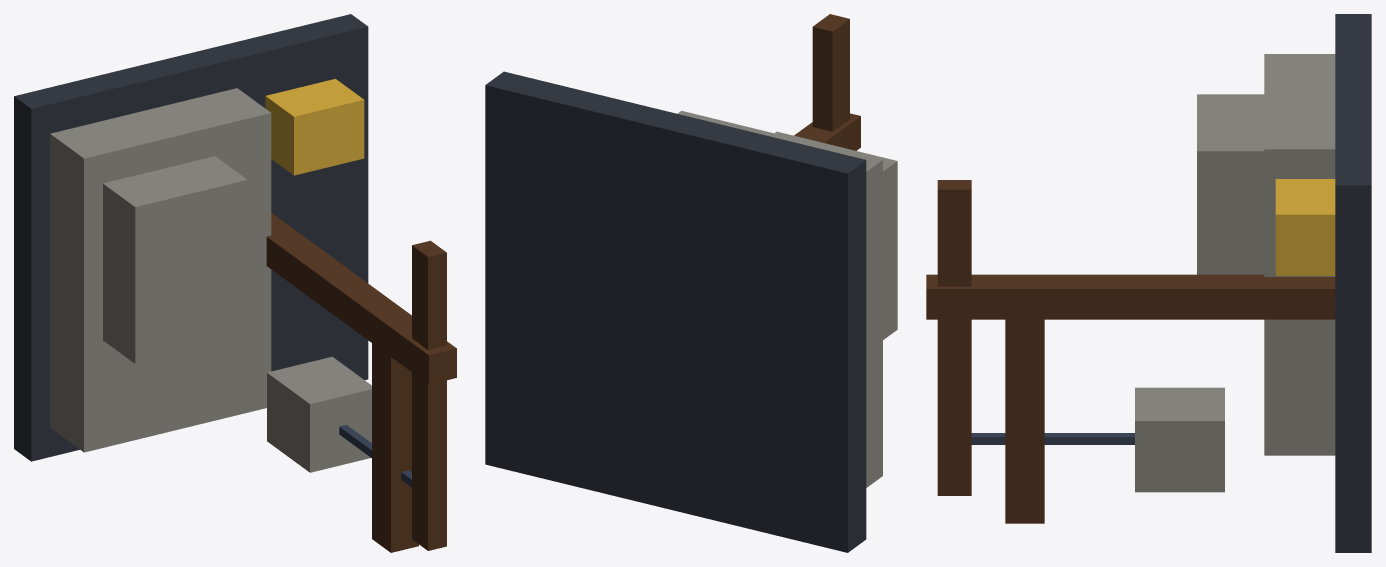
File: SM_Quarry.obj
3 views of the same model, side by side, from view 1: azimuth 30°, elevation 25°; view 2: azimuth 150°, elevation 25°; view 3: azimuth 270°, elevation 25° (orthographic). The views are drawn at different scales.
Parts seen in each view (by area): view 1: SM_Quarry_stone, SM_Quarry_basalt, SM_Quarry_timber, SM_Quarry_gold, SM_Quarry_slate; view 2: SM_Quarry_basalt, SM_Quarry_stone, SM_Quarry_timber; view 3: SM_Quarry_stone, SM_Quarry_timber, SM_Quarry_basalt, SM_Quarry_gold, SM_Quarry_slate.
Boxes of the visible parts, box(x1,y1,x2,y2) form: SM_Quarry_stone: box(50, 88, 371, 472); SM_Quarry_basalt: box(14, 14, 368, 461); SM_Quarry_timber: box(266, 213, 456, 552); SM_Quarry_gold: box(265, 79, 364, 175); SM_Quarry_slate: box(339, 425, 411, 487); SM_Quarry_basalt: box(485, 71, 866, 552); SM_Quarry_stone: box(677, 110, 897, 487); SM_Quarry_timber: box(794, 14, 860, 150); SM_Quarry_stone: box(1135, 54, 1335, 492); SM_Quarry_timber: box(926, 180, 1335, 523); SM_Quarry_basalt: box(1335, 14, 1371, 552); SM_Quarry_gold: box(1275, 179, 1335, 275); SM_Quarry_slate: box(971, 433, 1134, 444).
Size of the model in its own units: 360 by 385 by 395.
